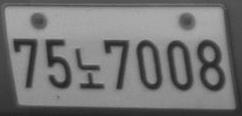0: (135, 38, 162, 90), (166, 39, 193, 90)
5: (45, 38, 72, 89)
7: (12, 37, 38, 88), (104, 39, 129, 90)
8: (196, 38, 225, 91)
노: (75, 48, 104, 88)
